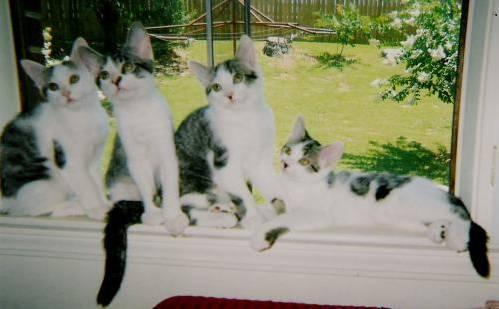cat: (0, 23, 490, 276)
